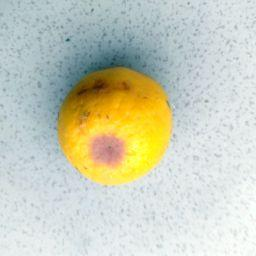Unripe: (59, 67, 171, 183)
